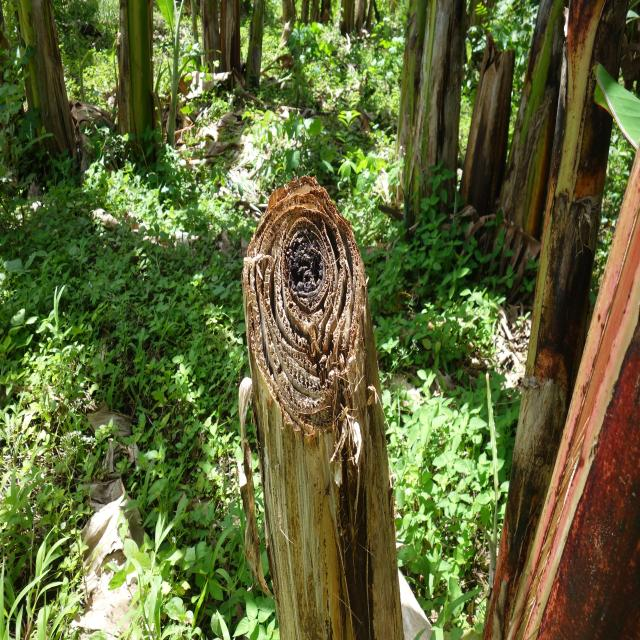Banana-plant: (486, 0, 570, 251), (395, 0, 463, 217), (115, 0, 154, 156)
